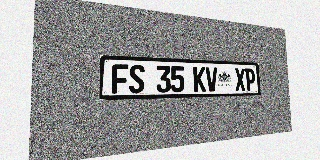3: (156, 65, 171, 93)
5: (171, 66, 185, 92)
F: (112, 64, 128, 94)
K: (193, 67, 206, 92)
P: (245, 68, 256, 91)
S: (129, 64, 145, 93)
V: (206, 67, 218, 92)
X: (235, 68, 246, 91)
